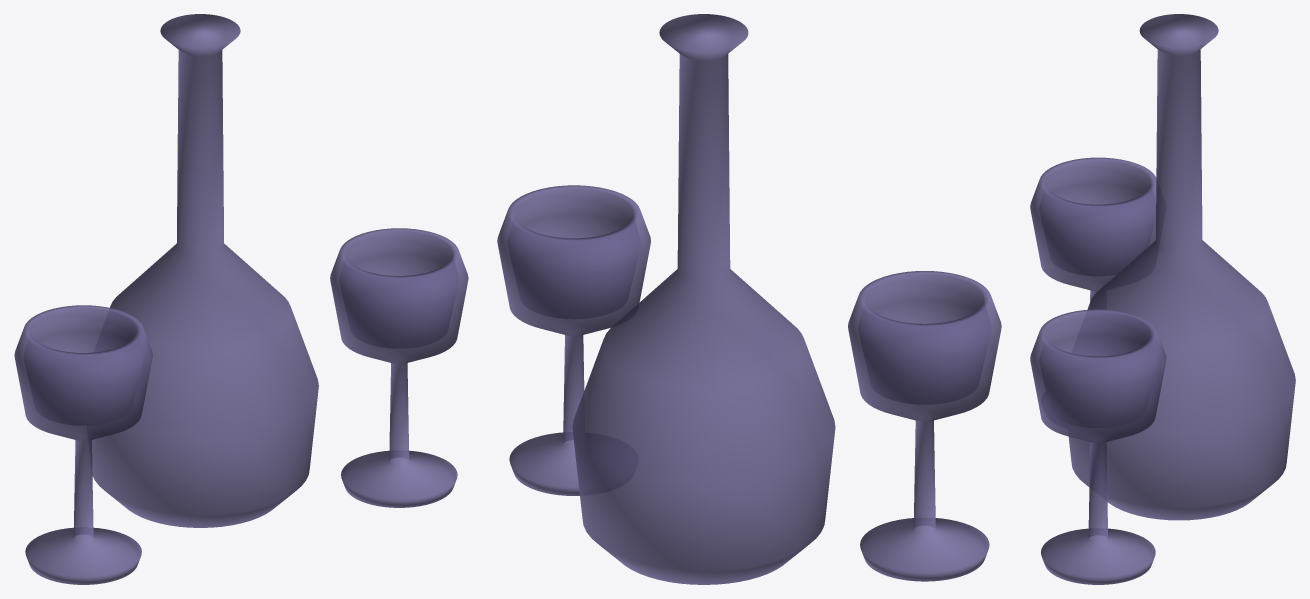
3 renders of one model, left to right at view 1: azimuth 30°, elevation 25°; view 2: azimuth 150°, elevation 25°; view 3: azimuth 270°, elevation 25°, orthographic. The views are drawn at different scales.
Parts seen in each view (by area): view 1: TI007 / glass decanter, TI007 / foot stem bowl, TI007 / foot stem bowl.001; view 2: TI007 / glass decanter, TI007 / foot stem bowl, TI007 / foot stem bowl.001; view 3: TI007 / glass decanter, TI007 / foot stem bowl.001, TI007 / foot stem bowl.
Part boxes in pixels (bbox=[...]): TI007 / glass decanter: bbox=[92, 14, 318, 527]; TI007 / foot stem bowl: bbox=[14, 305, 152, 584]; TI007 / foot stem bowl.001: bbox=[330, 228, 468, 507]; TI007 / glass decanter: bbox=[572, 14, 835, 584]; TI007 / foot stem bowl: bbox=[848, 271, 1001, 581]; TI007 / foot stem bowl.001: bbox=[497, 185, 650, 495]; TI007 / glass decanter: bbox=[1068, 14, 1295, 520]; TI007 / foot stem bowl.001: bbox=[1030, 309, 1166, 584]; TI007 / foot stem bowl: bbox=[1030, 157, 1156, 302].
Size of the model in its own units: 2.76 by 2.8 by 1.48.
